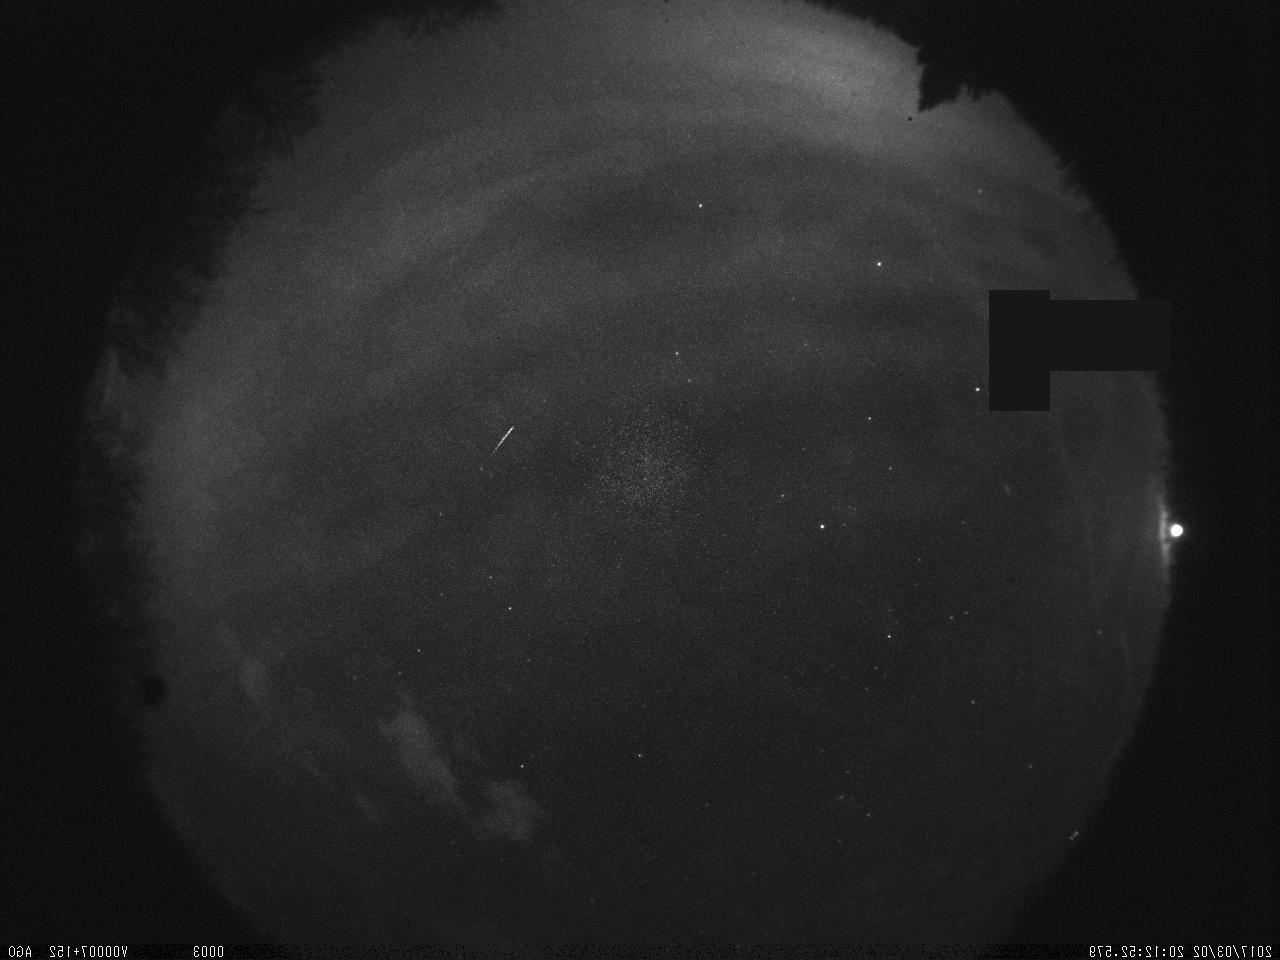meteor: (475, 420, 524, 466)
